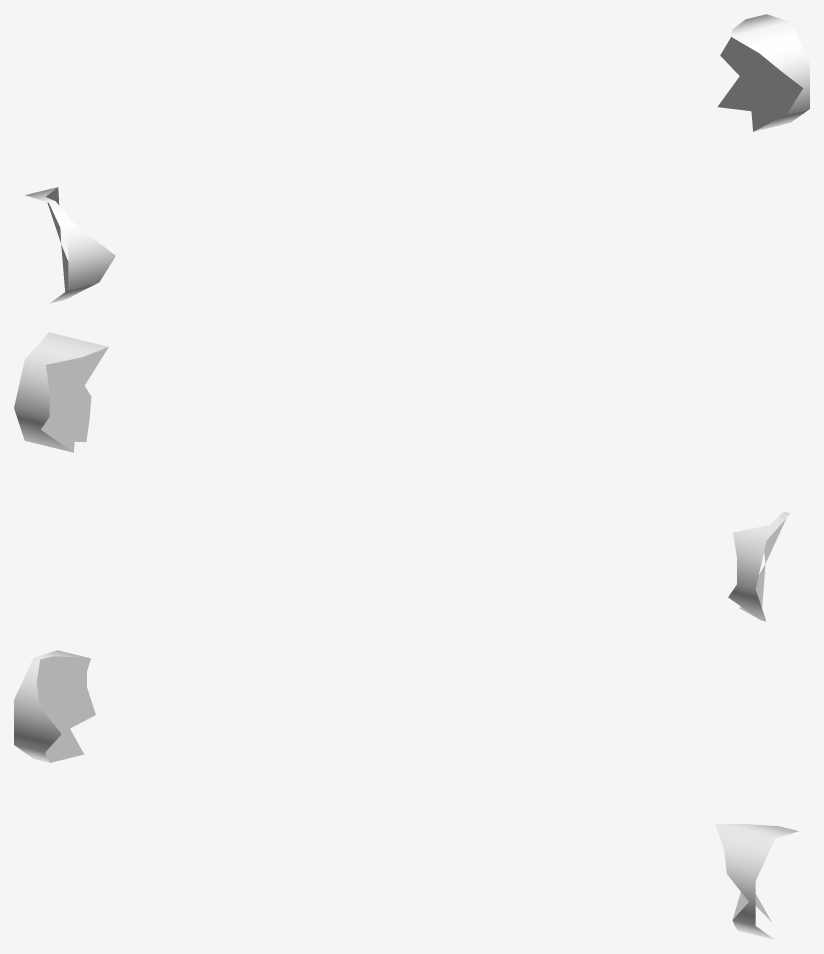
File: robotentacle_busted_3unit_02.glb
The picture shows the model from 3 angles, top to bottom: view 1: azimuth 30°, elevation 25°; view 2: azimuth 150°, elevation 25°; view 3: azimuth 330°, elevation 25°; orthographic projection.
Parts seen in each view (by area): view 1: ghost_in_machine.robotentacle_busted_3unit_02-Mesh[1], ghost_in_machine.robotentacle_busted_3unit_02-Mesh[0]; view 2: ghost_in_machine.robotentacle_busted_3unit_02-Mesh[1], ghost_in_machine.robotentacle_busted_3unit_02-Mesh[0]; view 3: ghost_in_machine.robotentacle_busted_3unit_02-Mesh[1], ghost_in_machine.robotentacle_busted_3unit_02-Mesh[0].
Part boxes in pixels (<box>): ghost_in_machine.robotentacle_busted_3unit_02-Mesh[1]: <box>25,14,809,303</box>; ghost_in_machine.robotentacle_busted_3unit_02-Mesh[0]: <box>46,37,802,291</box>; ghost_in_machine.robotentacle_busted_3unit_02-Mesh[1]: <box>14,332,790,621</box>; ghost_in_machine.robotentacle_busted_3unit_02-Mesh[0]: <box>41,347,786,619</box>; ghost_in_machine.robotentacle_busted_3unit_02-Mesh[1]: <box>14,650,798,939</box>; ghost_in_machine.robotentacle_busted_3unit_02-Mesh[0]: <box>37,656,771,921</box>.
Size of the model in its own units: 3 by 0.39 by 0.3802.
1 material, 1 textured.
